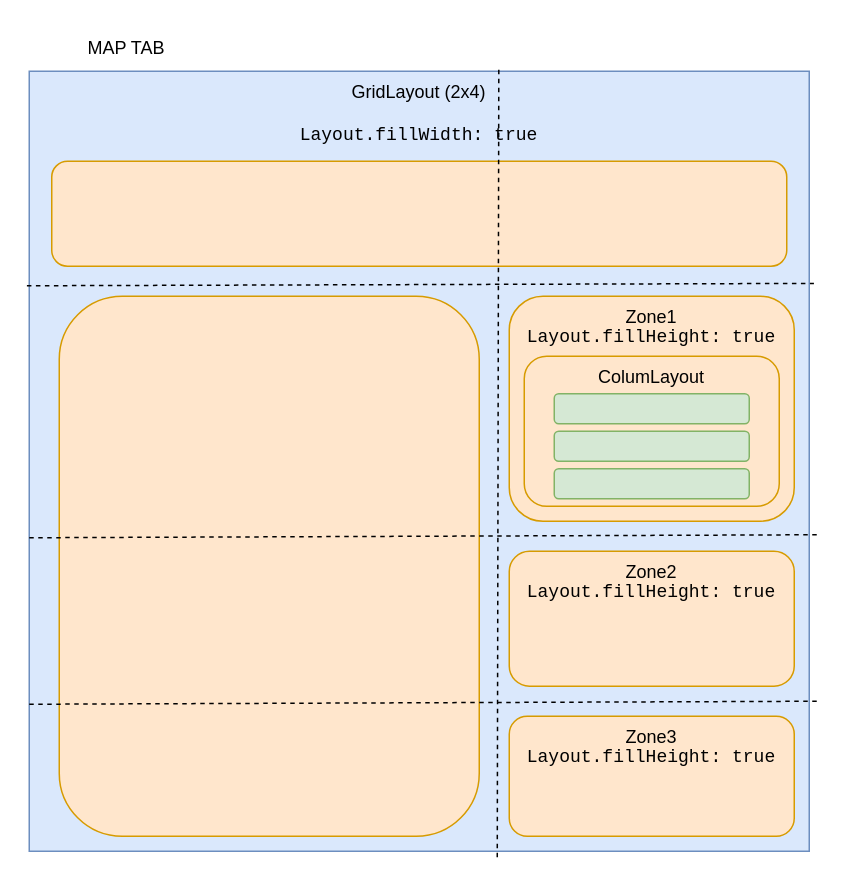
Some shapes in this 845 by 890 pixel diagram are drawn without their labels. The shapes that lost their labels are listed below. From the top down, each one's centre as x and y in pixels, then its label:
At pixel 418 213: "mapTools Layout.fillWidth: true".
At pixel 268 565: "mapView Layout.fillWidth: true Layout.fillHeight: true".
